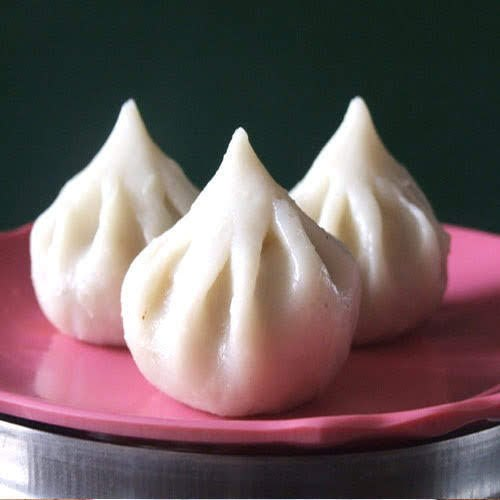modak: (151, 121, 362, 420), (18, 99, 212, 357), (282, 98, 450, 340)
